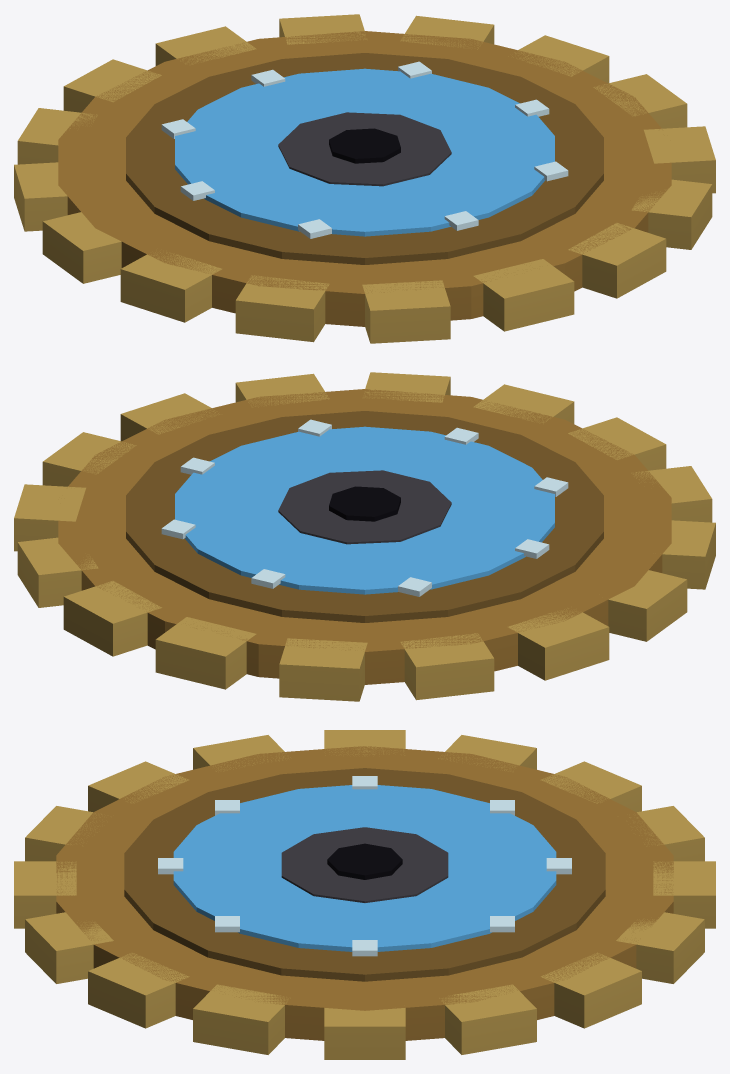
The model's file is cog_large.glb.
3 renders of one model, top to bottom at view 1: azimuth 30°, elevation 25°; view 2: azimuth 150°, elevation 25°; view 3: azimuth 270°, elevation 25°, orthographic.
Parts seen in each view (by area): view 1: cog_large; view 2: cog_large; view 3: cog_large.
Part boxes in pixels (x1,y1,x2,y2): cog_large: (14,14,715,343); cog_large: (14,372,715,701); cog_large: (14,730,715,1059).
Bounding box in the file's own units: 1.34 × 0.11 × 1.34.
